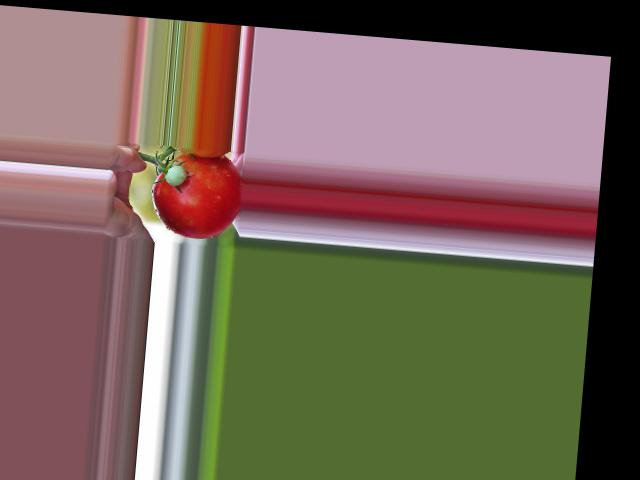tomato: (148, 149, 246, 241)
